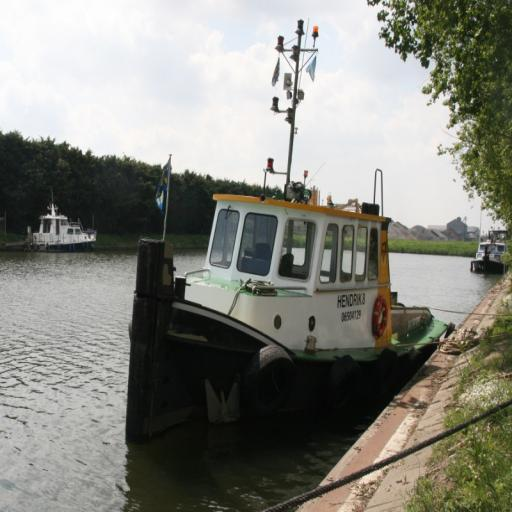tugboat: (127, 145, 459, 449)
